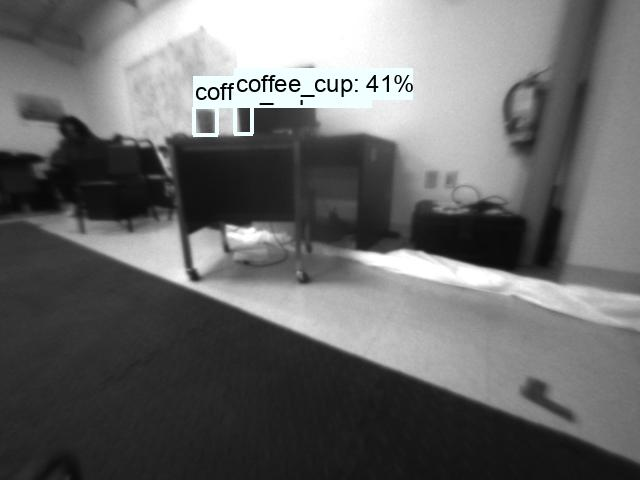coffee_cup: (193, 107, 217, 135)
